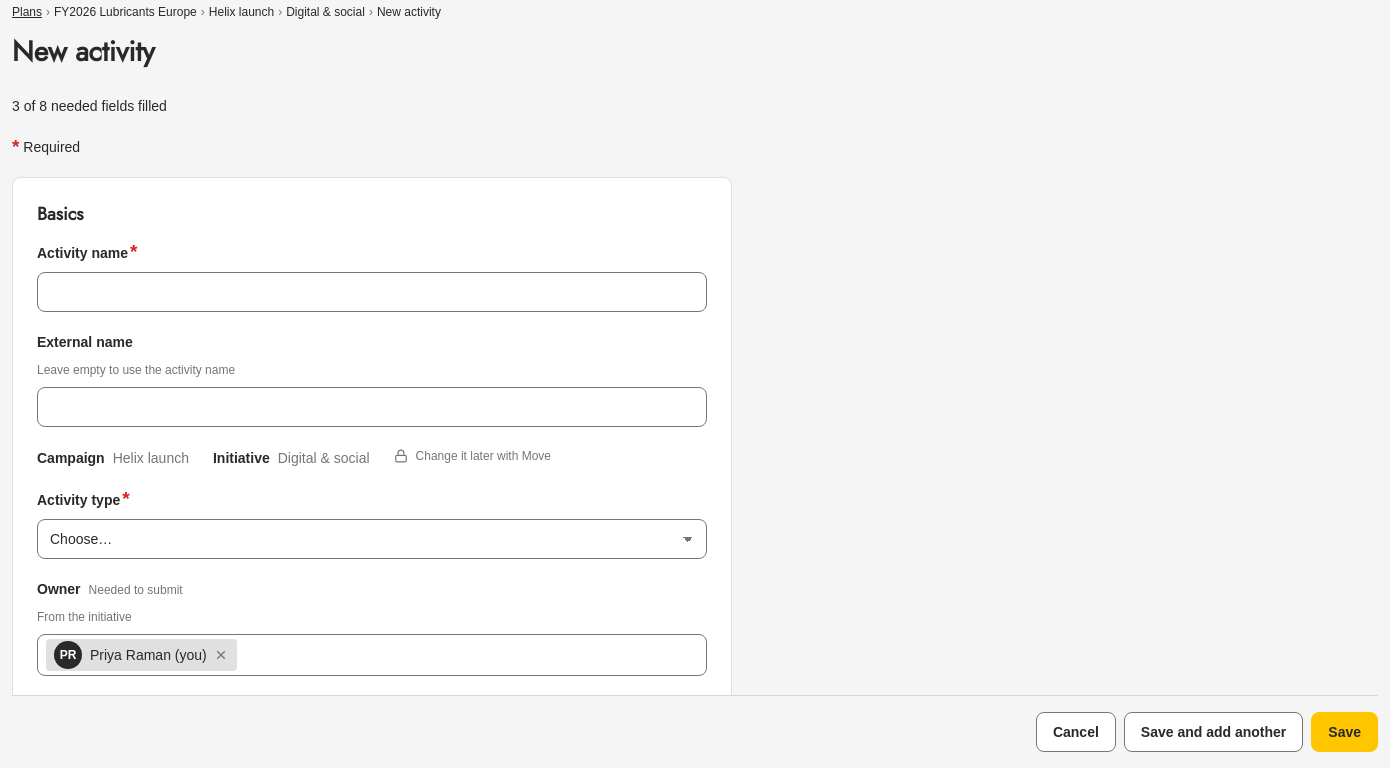
Test: ActivityFormPage, new activity (feature 006, US1) › creates the activity, says so and opens its page (FR-003, FR-004)
In the field labelled "Activity name": (372, 292) [37,272,707,312], type "Trade show"
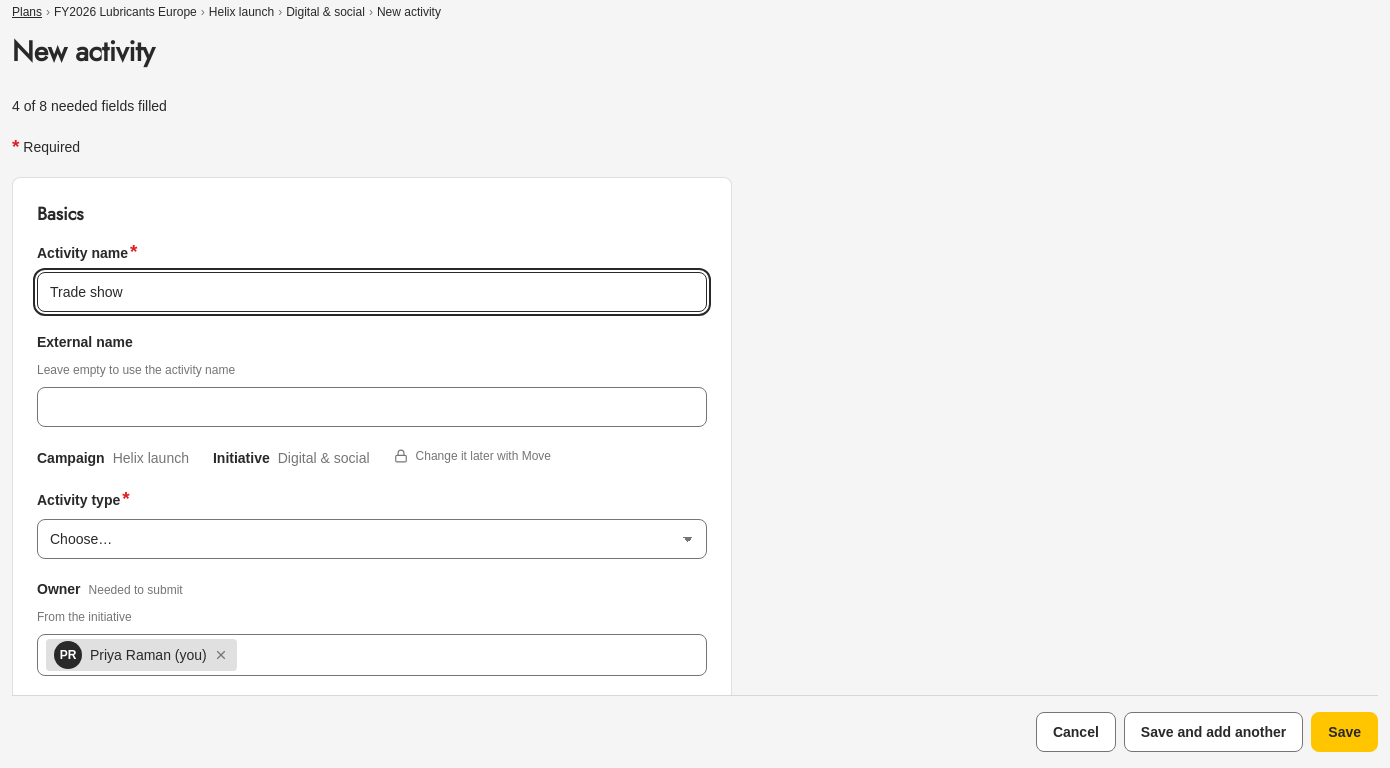
Select "Event · default 25,000.00 USD" in the dropdown labelled "Activity type": (372, 539) [37,519,707,559]
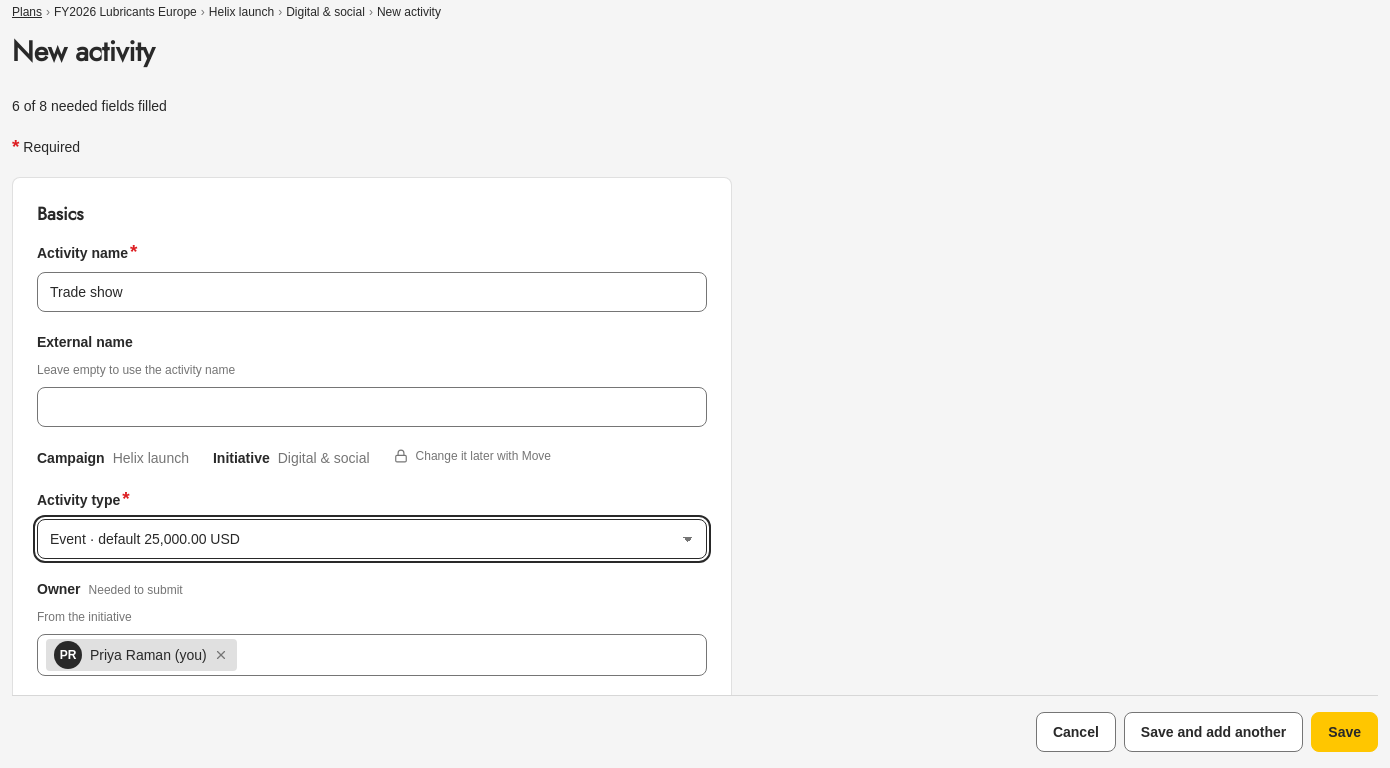
Click the button "Save": (1345, 732) [1311,712,1378,752]
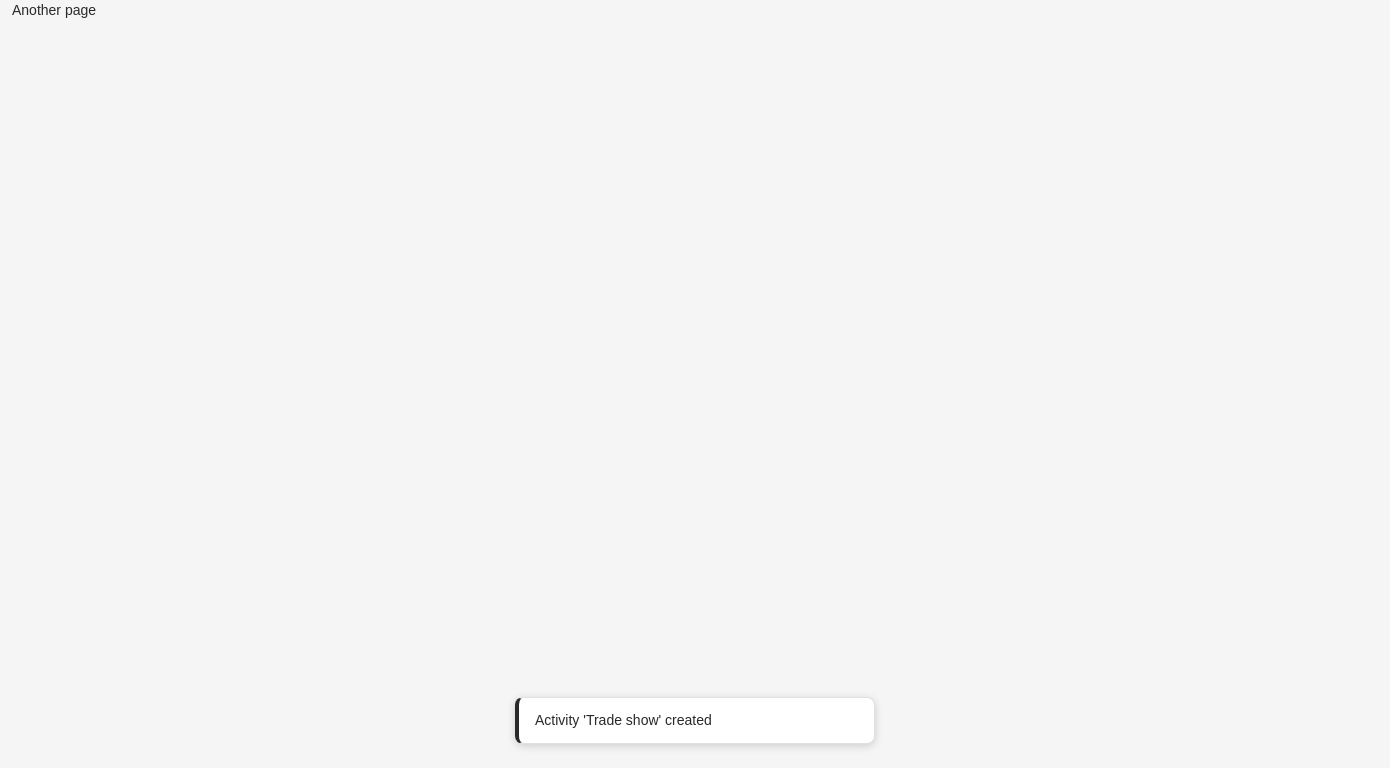
Expected: the text "Activity 'Trade show' created" is shown, [535,712,712,728]
